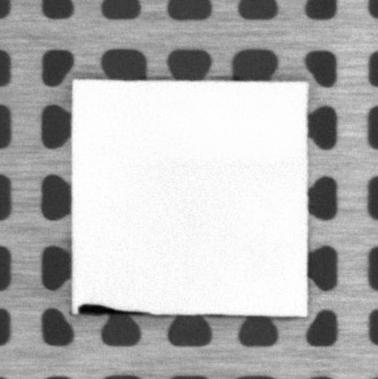DIE_BROKEN: (76, 302, 152, 317)
